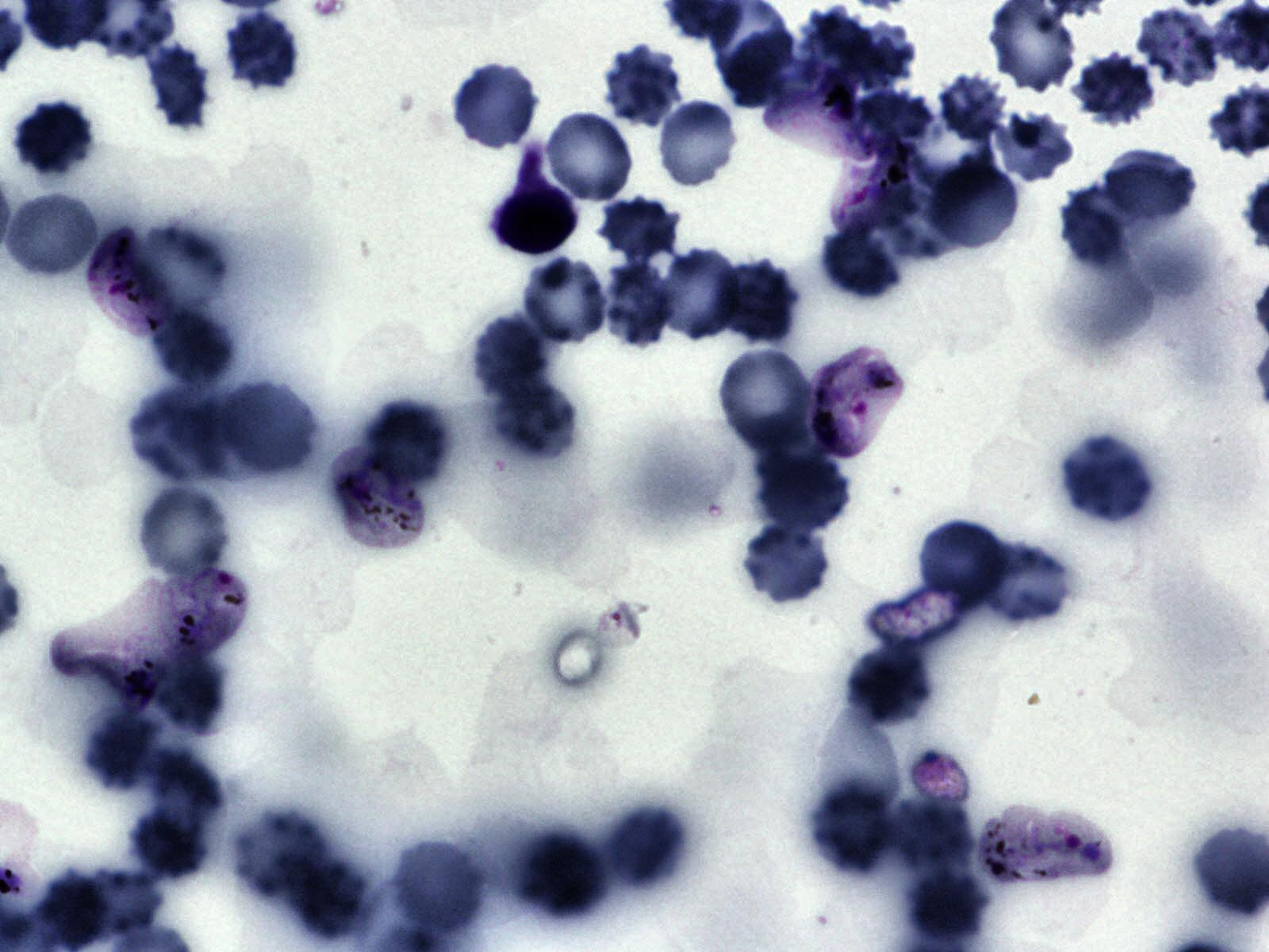Infected: (52, 577, 196, 712), (807, 344, 904, 464), (765, 63, 880, 160), (977, 805, 1113, 887), (492, 140, 575, 261), (332, 449, 427, 552), (88, 225, 173, 336), (153, 565, 248, 663), (830, 135, 913, 236)
Uninfected: (716, 346, 816, 453), (540, 109, 639, 209), (136, 481, 231, 585), (926, 158, 1024, 255), (128, 386, 227, 482), (802, 6, 914, 90), (1060, 432, 1156, 525), (4, 191, 100, 281), (752, 453, 852, 539), (519, 255, 611, 348), (217, 381, 312, 471), (973, 539, 1072, 624), (656, 248, 744, 343), (654, 98, 742, 192), (393, 838, 480, 933), (844, 639, 936, 727), (1100, 148, 1198, 229), (919, 520, 1008, 609), (742, 520, 834, 606), (236, 811, 327, 897), (452, 63, 539, 152), (133, 225, 223, 311), (715, 255, 799, 347), (519, 831, 606, 919), (602, 45, 686, 130), (140, 36, 214, 131), (493, 374, 575, 459), (599, 262, 673, 352), (68, 869, 163, 939), (13, 99, 97, 178), (815, 788, 891, 873), (365, 401, 446, 480), (223, 10, 301, 92), (1138, 7, 1217, 86), (156, 308, 232, 389), (886, 802, 972, 873), (130, 807, 211, 882), (597, 193, 681, 265), (289, 858, 363, 939), (723, 25, 796, 106), (1064, 183, 1133, 268), (823, 223, 899, 300), (474, 317, 548, 396), (85, 714, 158, 793), (988, 117, 1075, 182), (146, 748, 221, 823), (910, 870, 987, 942), (934, 71, 1010, 143), (611, 808, 681, 885), (156, 654, 223, 734), (1077, 56, 1150, 125), (856, 86, 934, 144)
